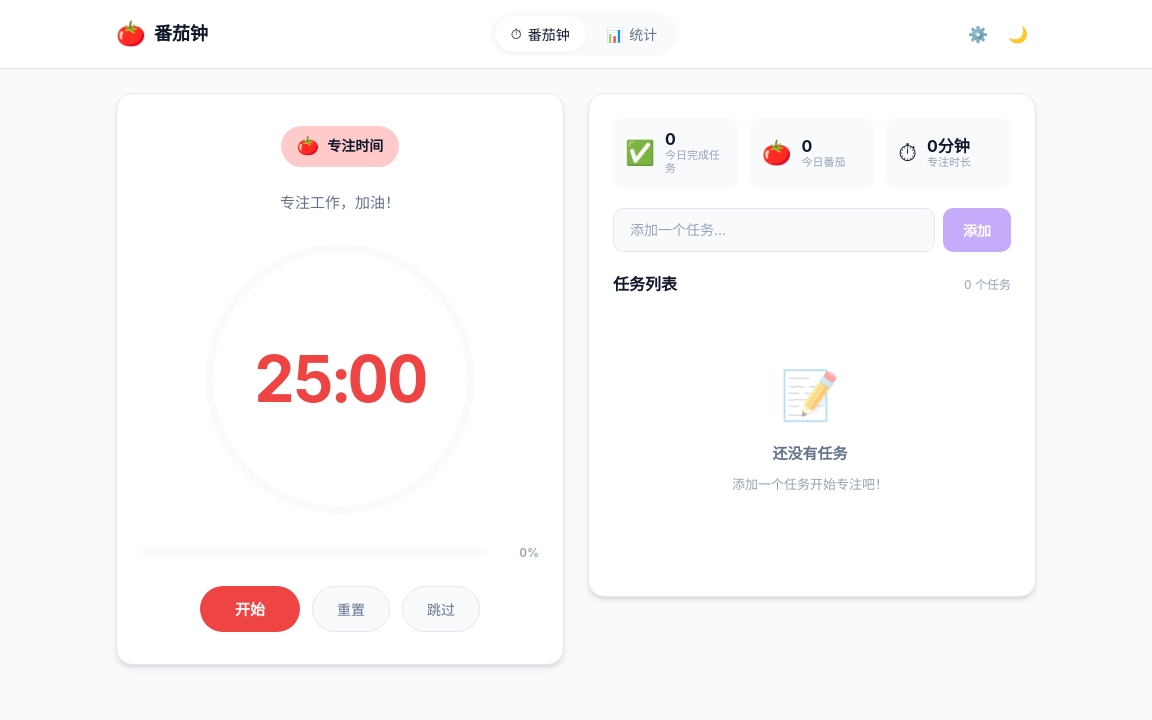
it: App phase switching via skip › switches from short break back to work
Expected: the text "专注时间" is shown, [327, 135, 383, 158]
Click the button "跳过" at (441, 609), box [402, 586, 480, 632]
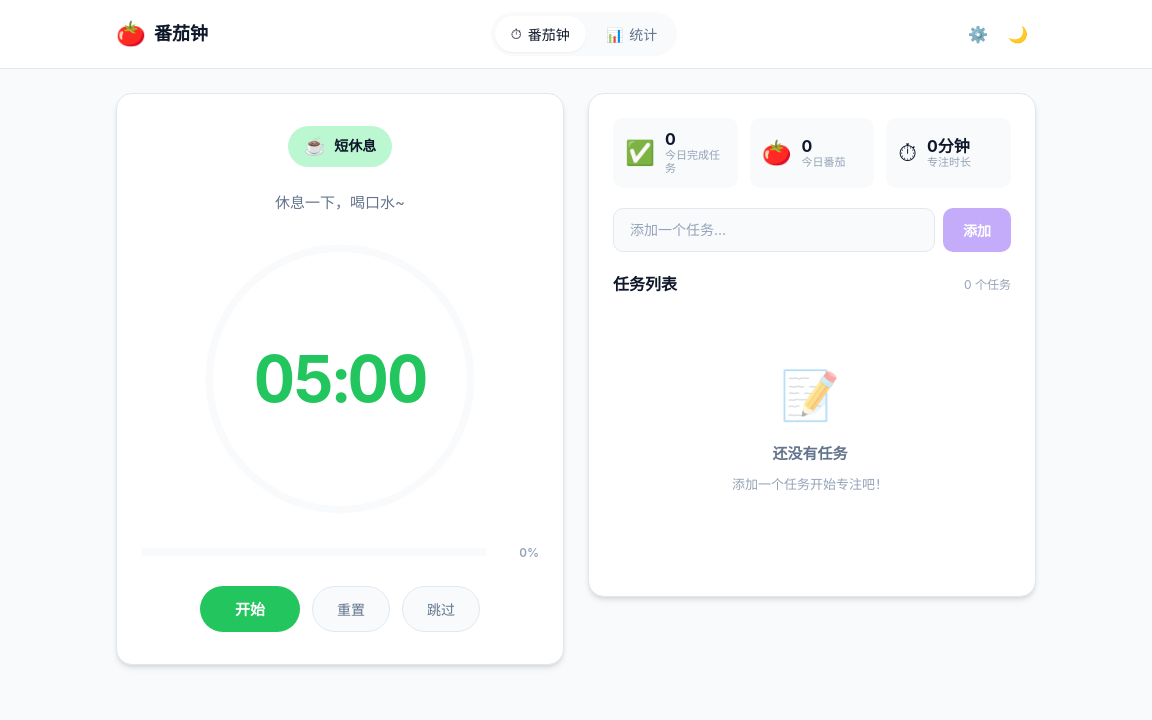
Expected: the text "短休息" is shown, [334, 135, 376, 158]
Click the button "跳过" at (441, 609), box [402, 586, 480, 632]
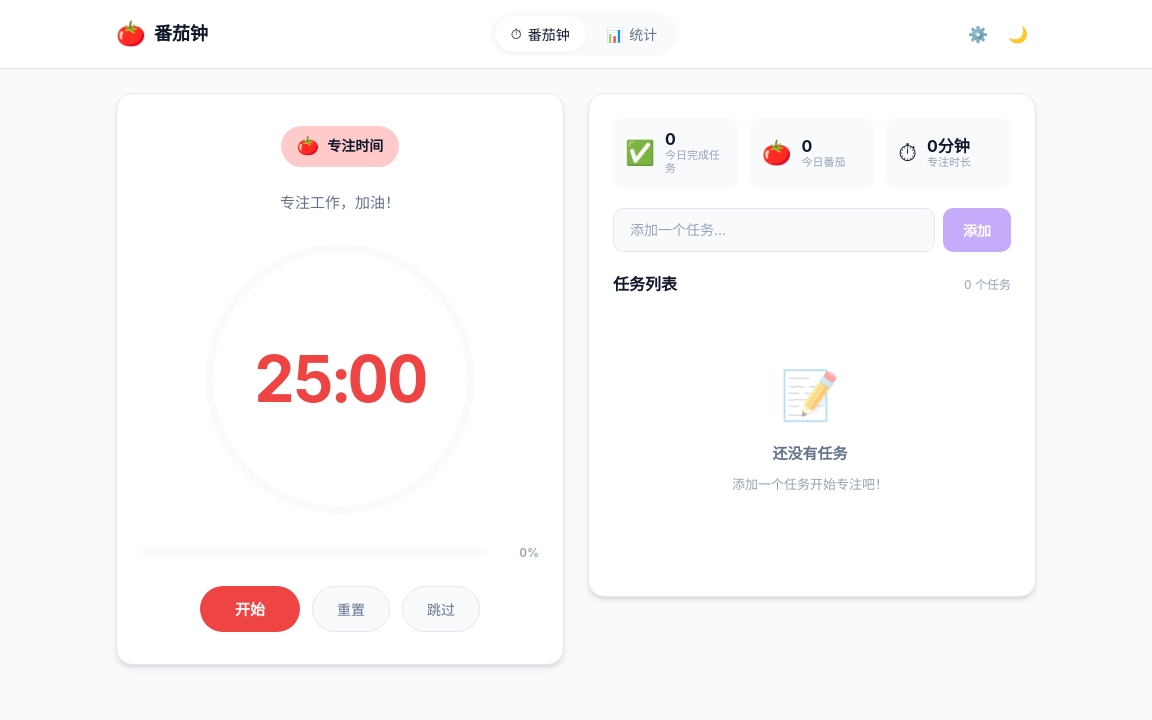
Expected: the text "专注时间" is shown, [327, 135, 383, 158]
